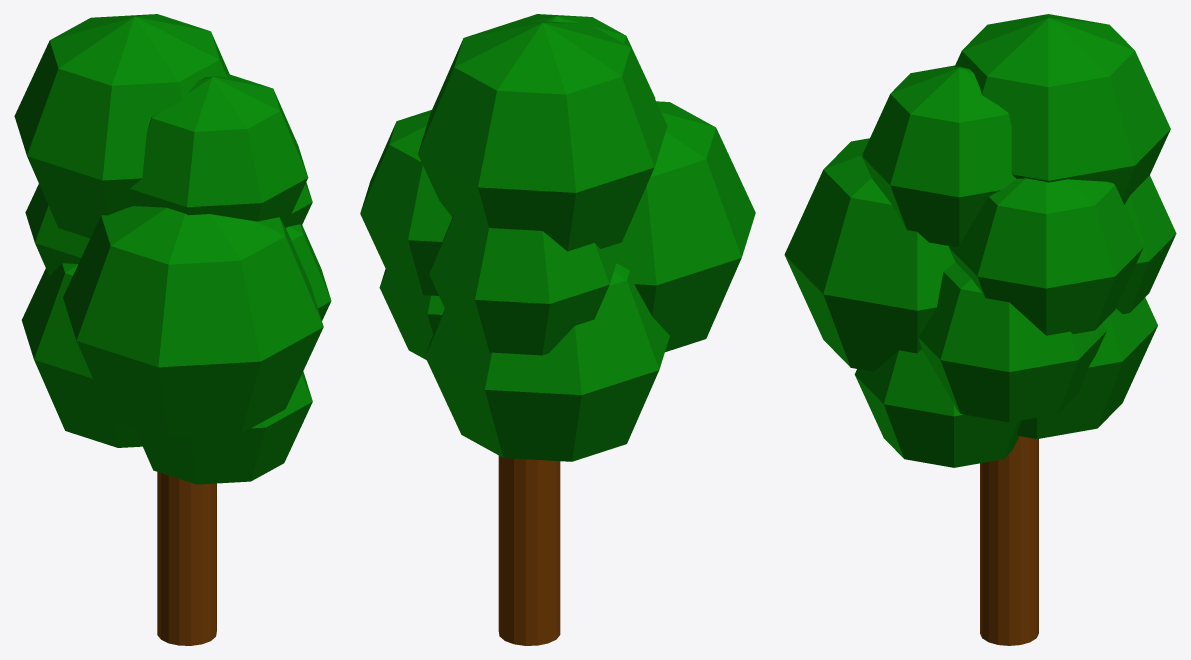
The model's file is tree4.fbx.
The picture shows the model from 3 angles, left to right: view 1: azimuth 30°, elevation 25°; view 2: azimuth 150°, elevation 25°; view 3: azimuth 270°, elevation 25°; orthographic projection. The views are drawn at different scales.
Visible parts, largest first — view 1: Tree4; view 2: Tree4; view 3: Tree4.
Part boxes in pixels (x1,y1,x2,y2): Tree4: [14, 14, 331, 645]; Tree4: [360, 14, 755, 645]; Tree4: [784, 14, 1176, 645].
Size of the model in its own units: 500 by 997 by 591.
